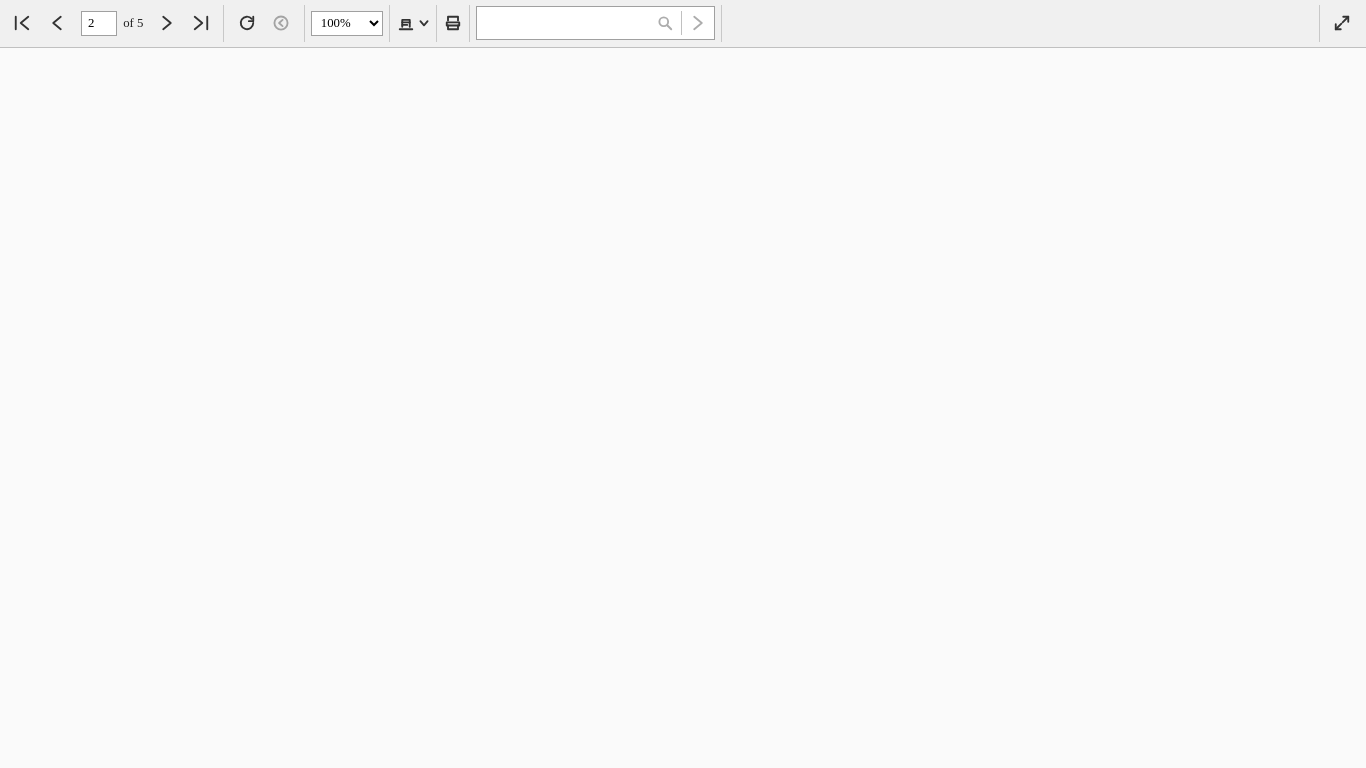
Test: ViewerToolbar native chrome › does not print a PDF when Print Cancel or Close is used
This screenshot has width=1366, height=768.
Step 1. Click the button named "Print" → (453,23), box [437, 2, 469, 44]
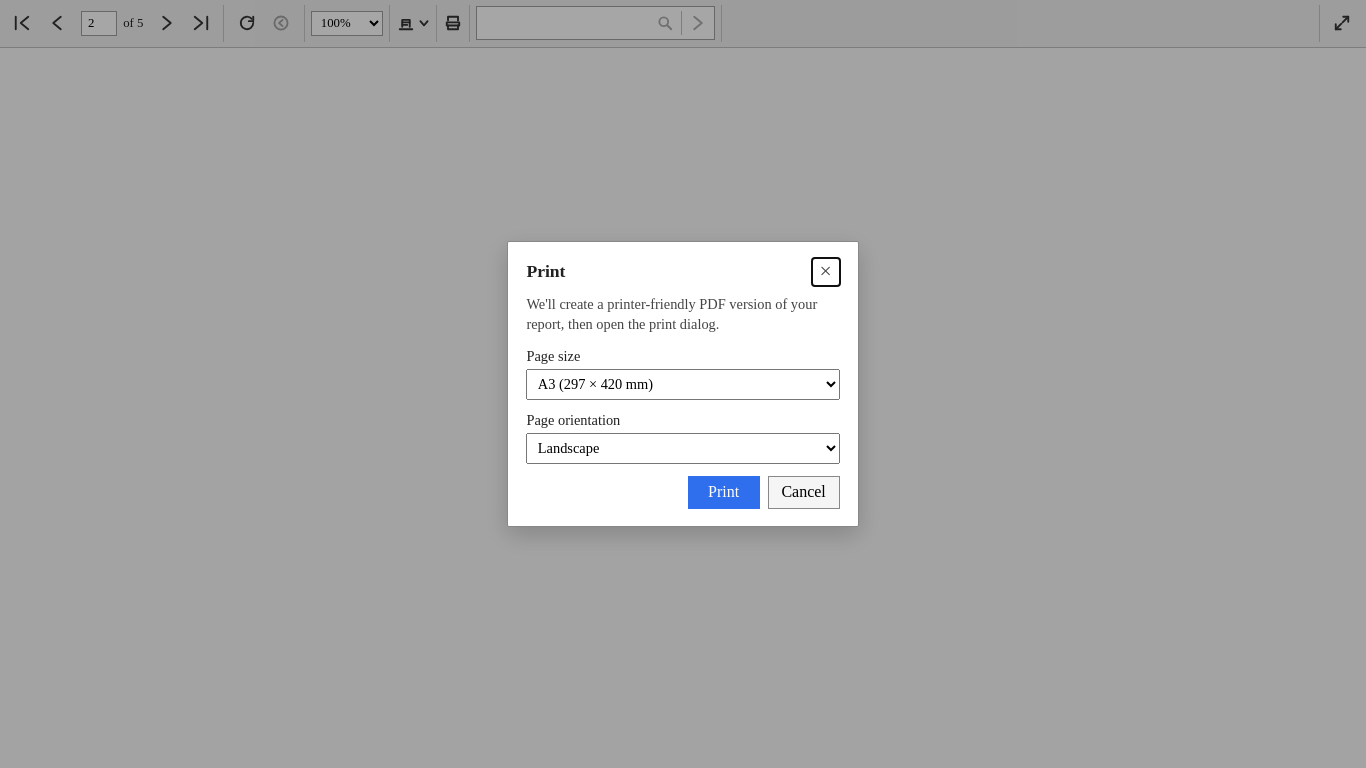
Step 2. Click the button "Cancel" → (804,492), box [768, 476, 840, 509]
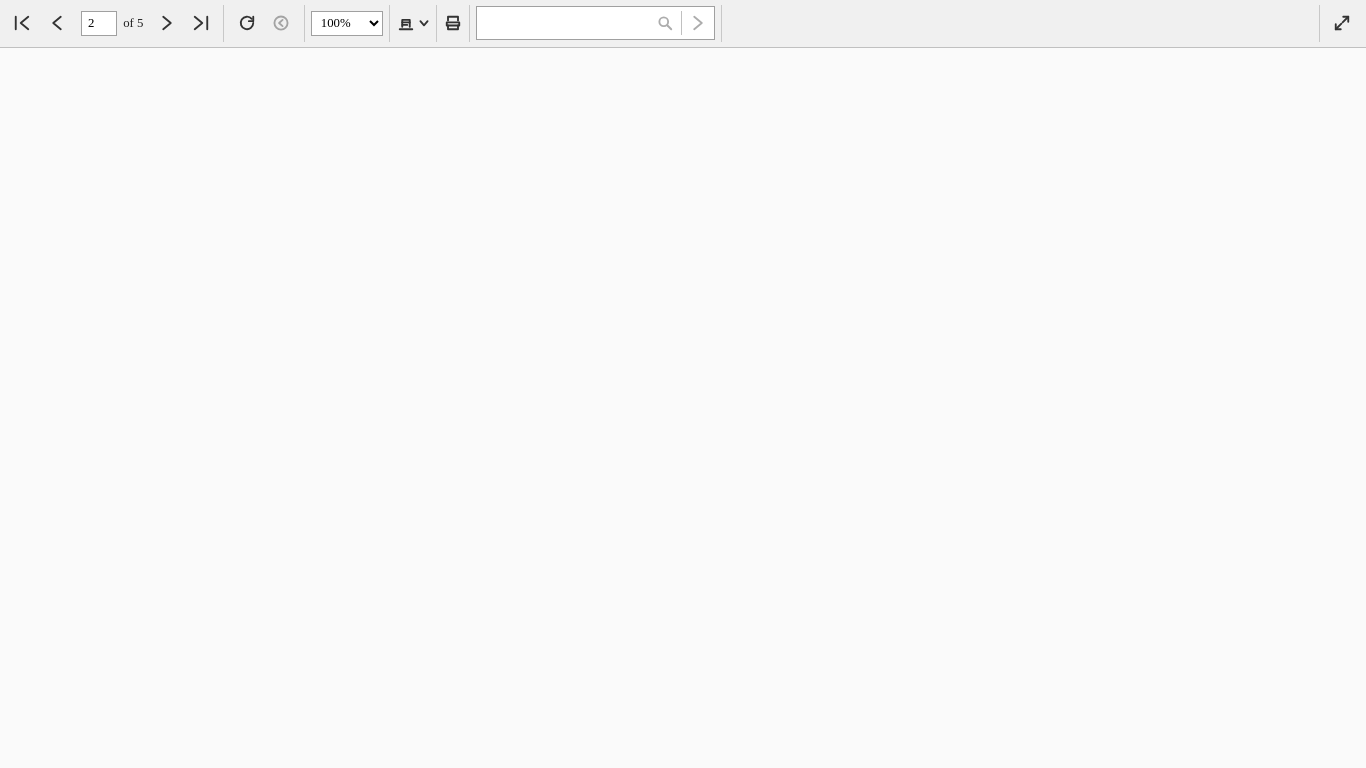
Expected: the heading "Print" is gone
Step 3. Click the button named "Print" → (453,23), box [437, 2, 469, 44]
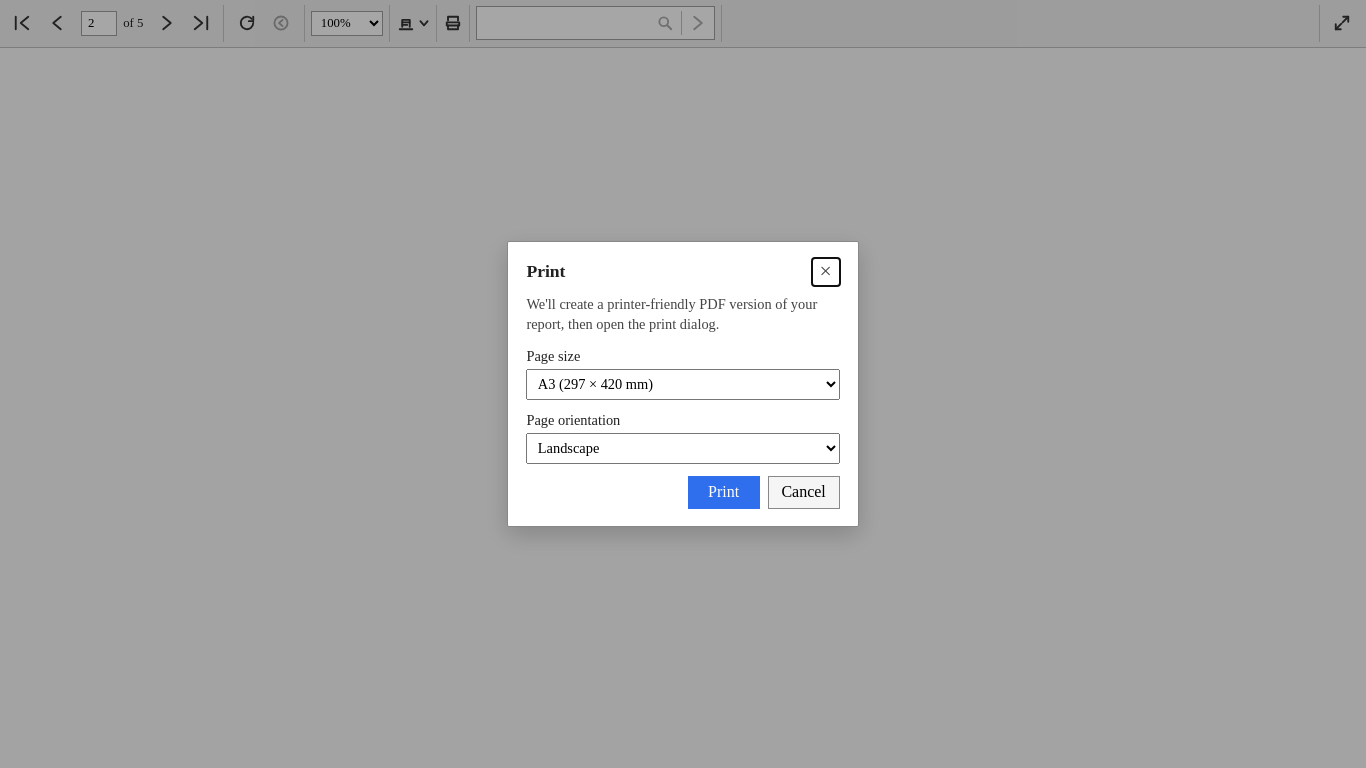
Step 4. Click the button named "Close" → (826,272), box [812, 258, 840, 286]
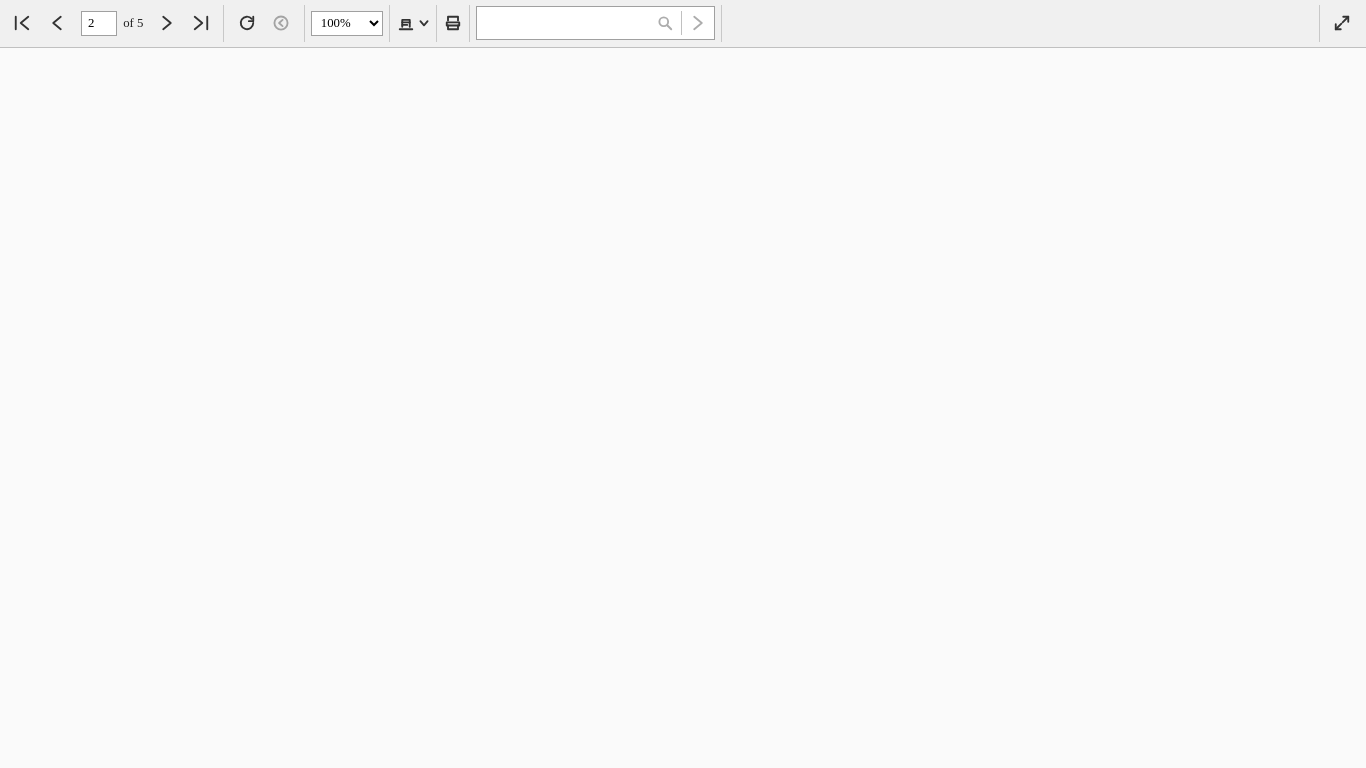
Expected: the heading "Print" is gone
